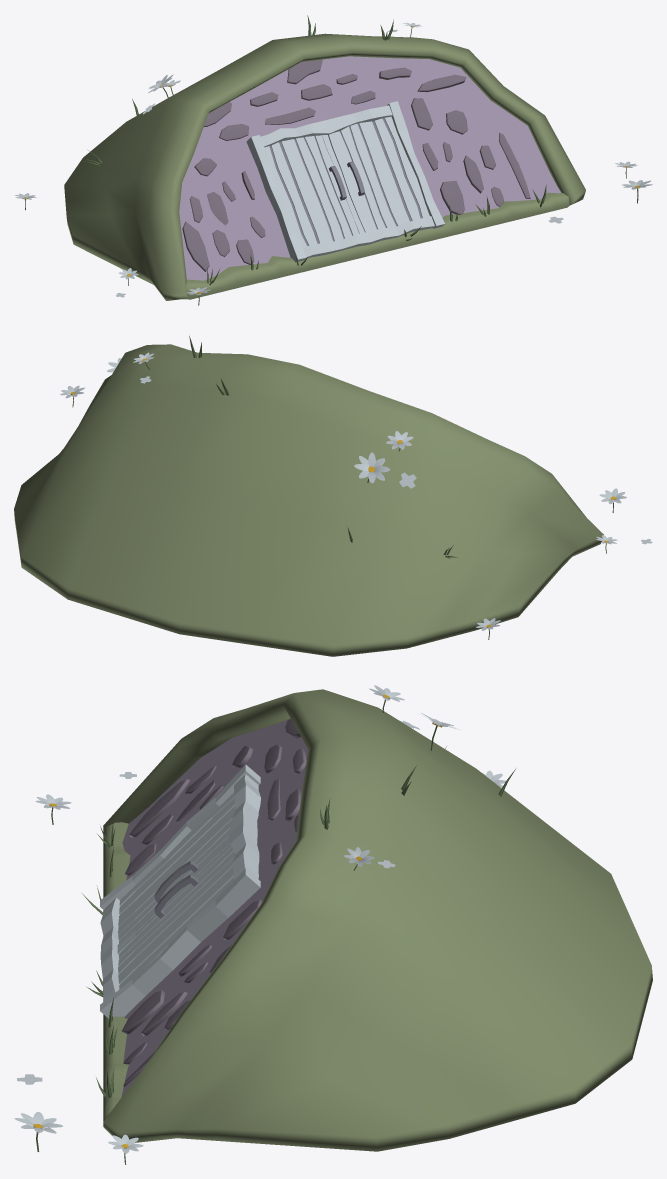
File: P_stash_01_LD.fbx
The picture shows the model from 3 angles, top to bottom: view 1: azimuth 30°, elevation 25°; view 2: azimuth 150°, elevation 25°; view 3: azimuth 270°, elevation 25°; orthographic projection. The views are drawn at different scales.
Visible parts, largest first — view 1: P_stash_01; view 2: P_stash_01; view 3: P_stash_01.
Boxes of the visible parts, x1,y1,x2,y2 form: P_stash_01: (14, 15, 652, 305); P_stash_01: (14, 336, 652, 656); P_stash_01: (14, 685, 652, 1164).
Size of the model in its own units: 589 by 176 by 406.
Materials: 1 (1 with a texture image).
